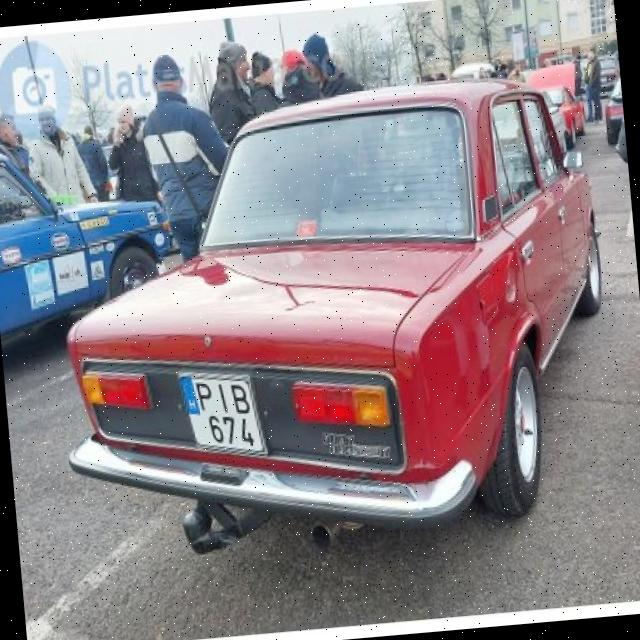licence: (176, 358, 266, 469)
